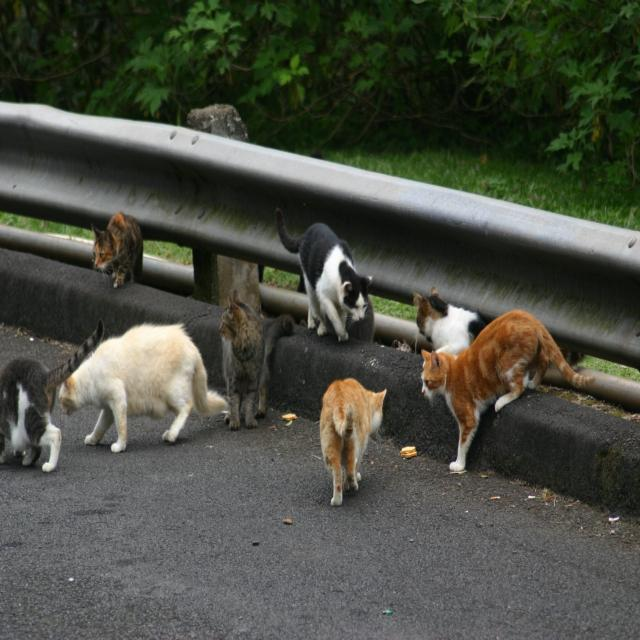cat: (421, 309, 589, 472), (60, 324, 228, 451), (0, 321, 104, 472), (276, 210, 371, 343), (220, 292, 294, 428), (320, 379, 386, 503), (414, 287, 486, 354), (94, 214, 141, 286)
